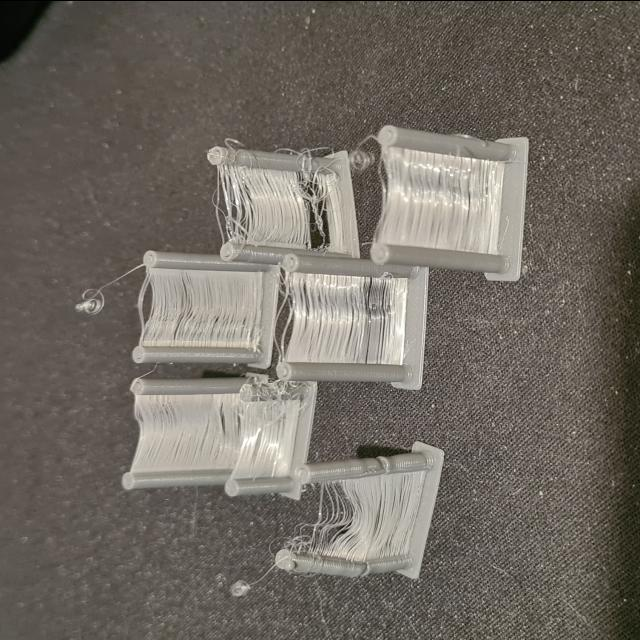Stringing: (312, 480, 368, 558), (364, 480, 414, 556), (172, 285, 228, 343), (352, 284, 396, 357), (222, 170, 262, 233), (292, 174, 334, 232), (74, 276, 110, 316)
